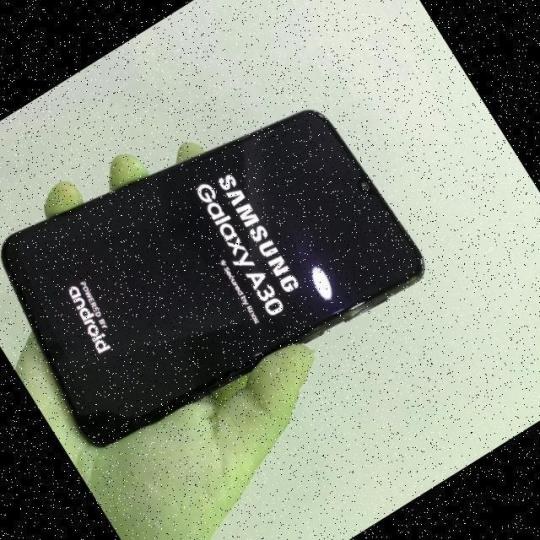phone: (7, 112, 421, 445)
